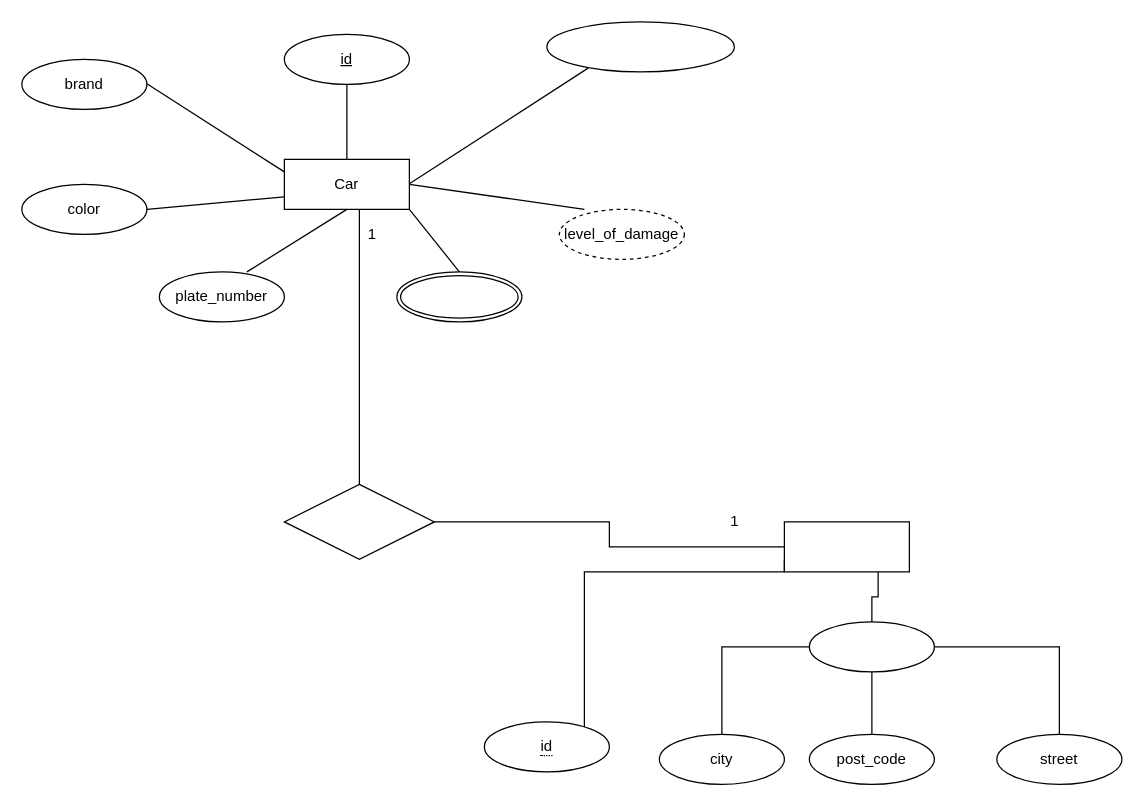
Image size: 1144x806. Some labels were removed from this diagram. The centre of each missing label's shape, as x and y in pixels:
"is on" belongs at point 358,521.
"location" belongs at point 871,646.
"Parking place" belongs at point 846,546.
"wheels_size" belongs at point 459,296.
"year_of_construction" belongs at point 640,46.
